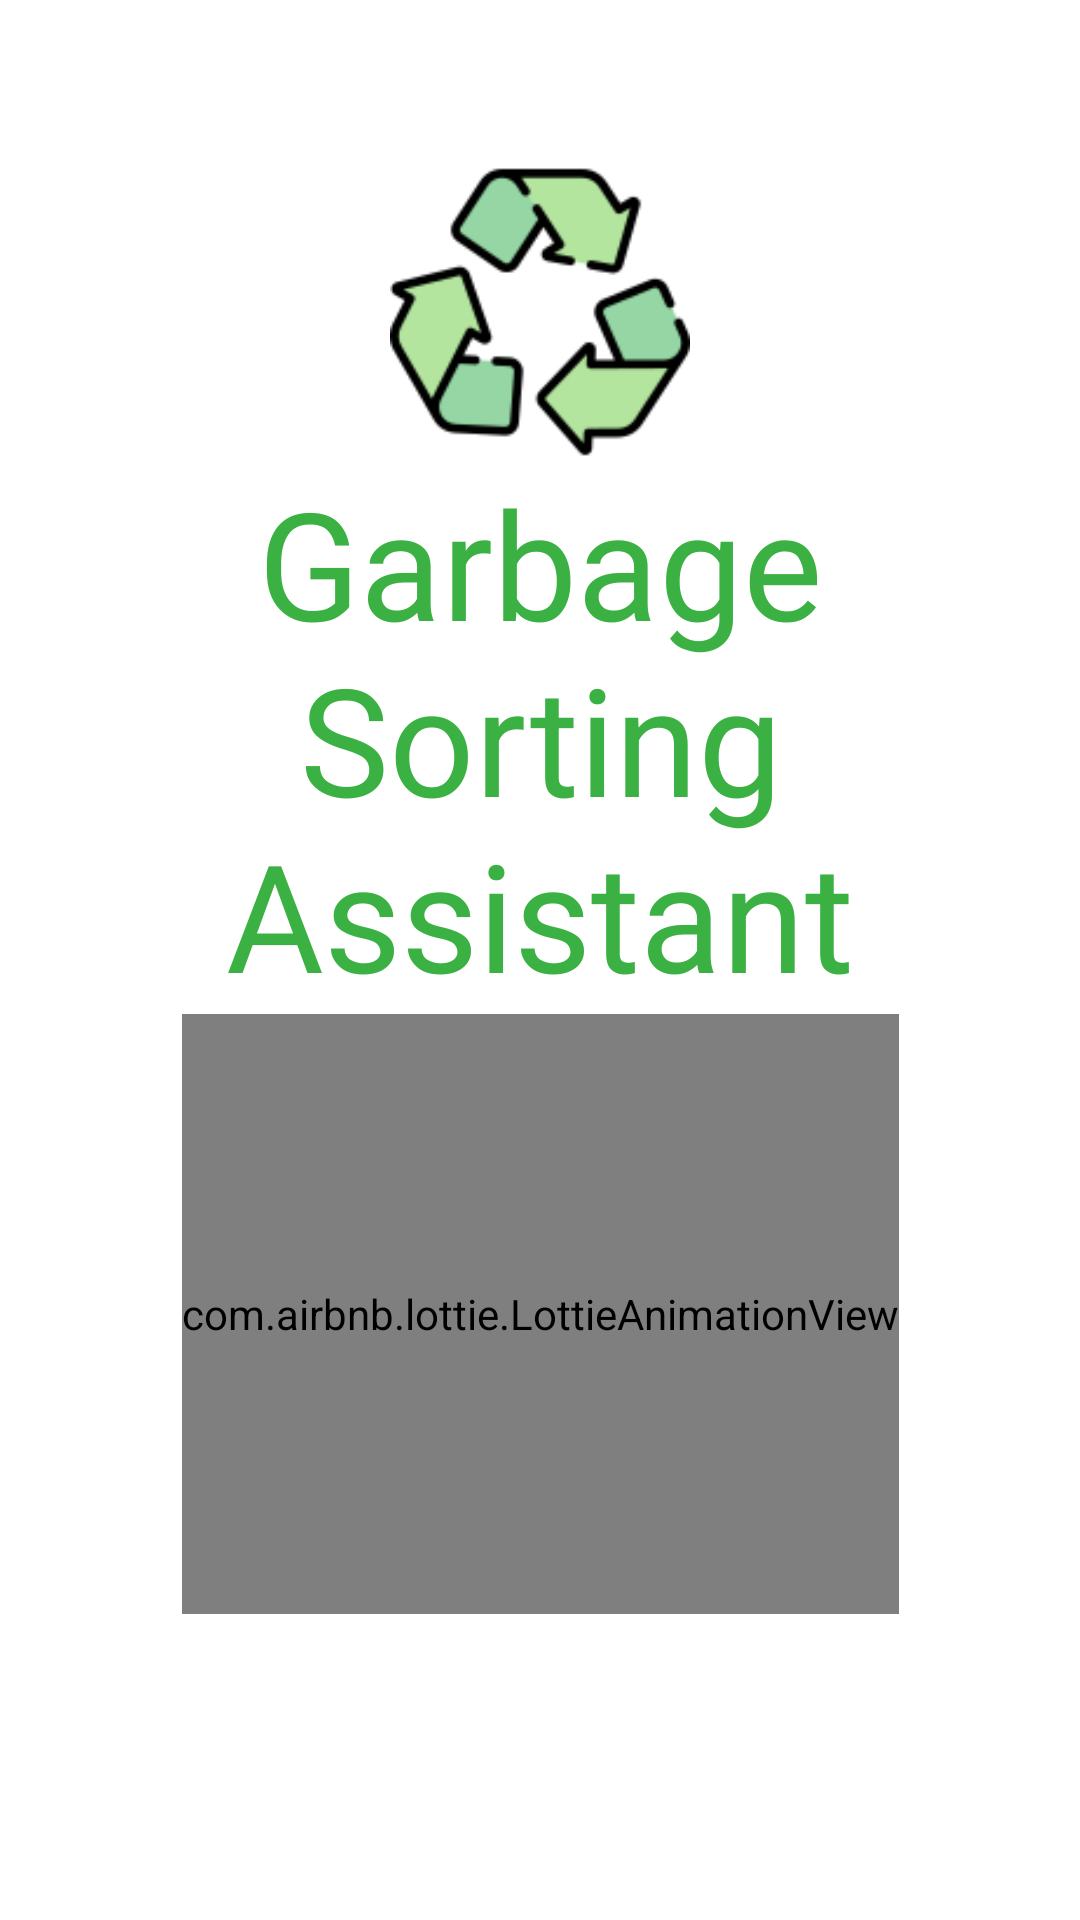

Named icons in this screenshot (1080w x 1920h) and their bounding boxes, (x1, y1, x2, y2):
recycling: (390, 168, 690, 456)
